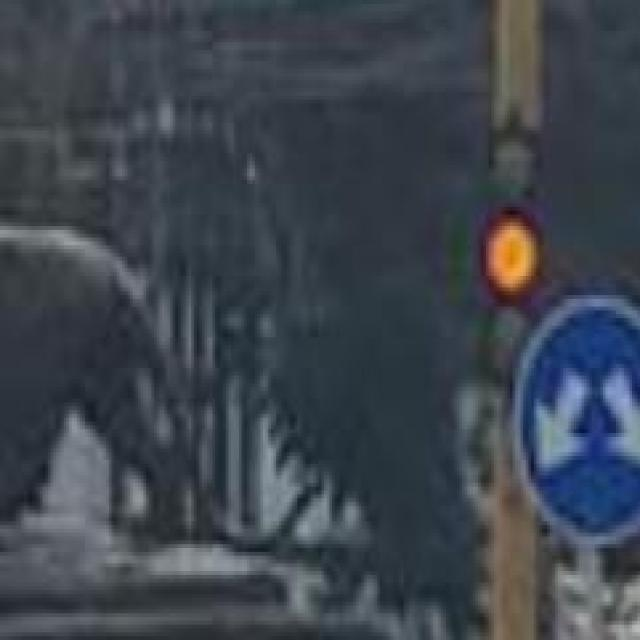traffic sign: (512, 291, 640, 548)
